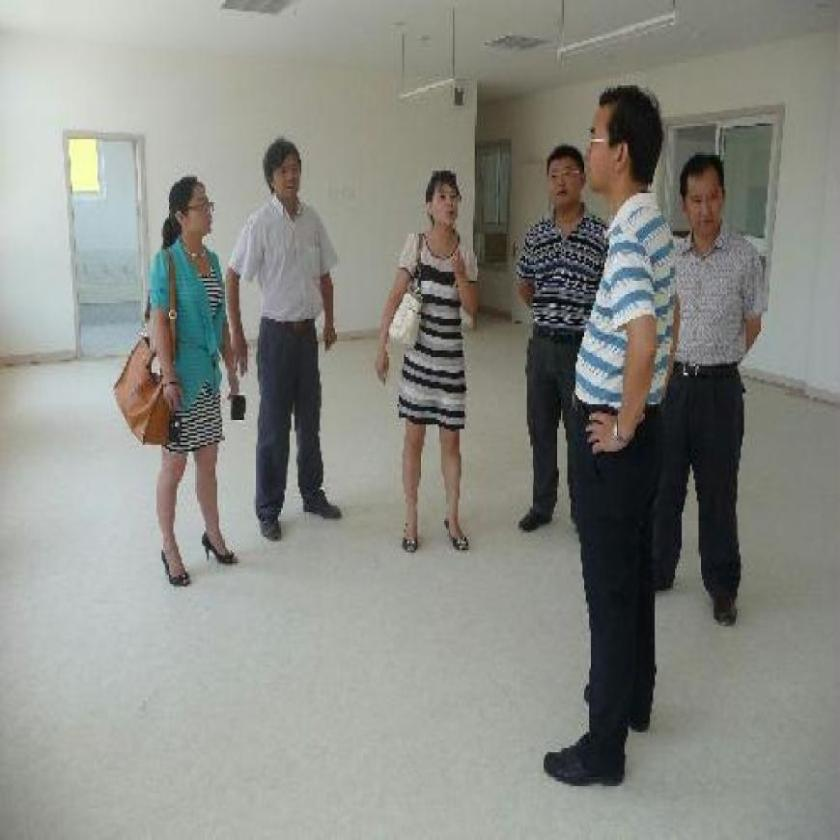Sin_casco: (583, 52, 670, 248), (154, 163, 222, 264), (680, 150, 748, 243), (251, 120, 305, 217), (418, 158, 471, 241), (550, 120, 587, 219)
